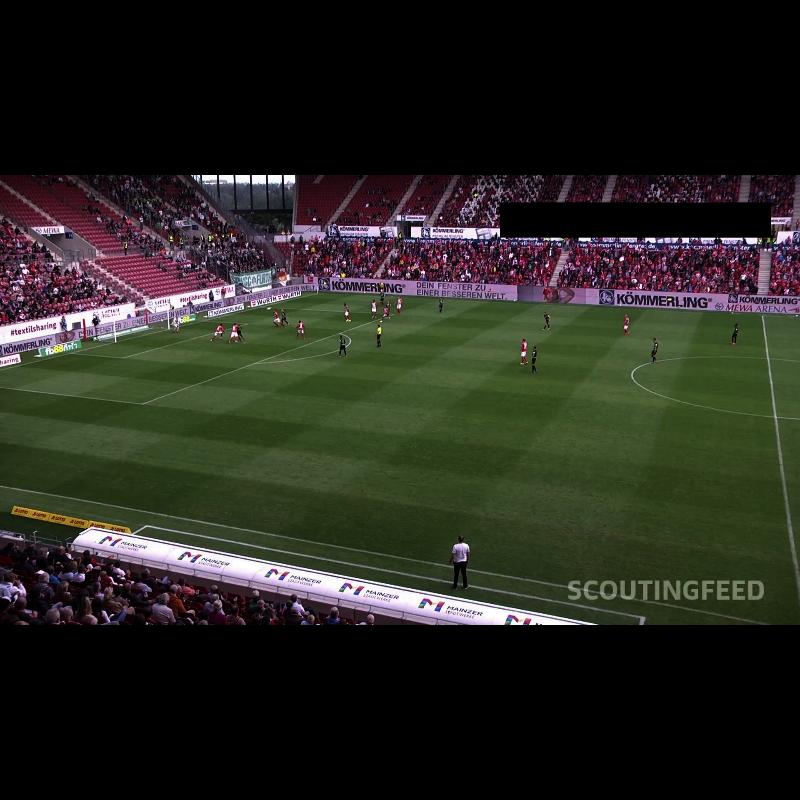cross_recipient_zone: (0, 307, 394, 404)
crossing_player_zone: (0, 387, 265, 504), (262, 293, 512, 319)
pitch: (0, 293, 800, 625)
